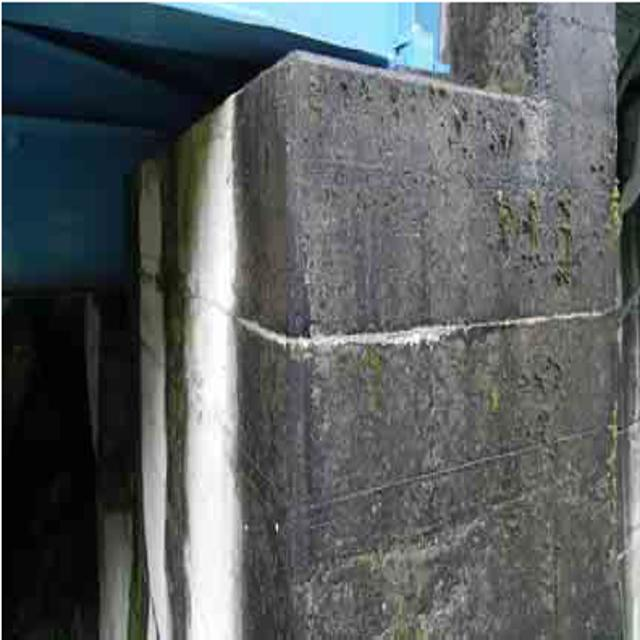leakage: (141, 50, 300, 640)
